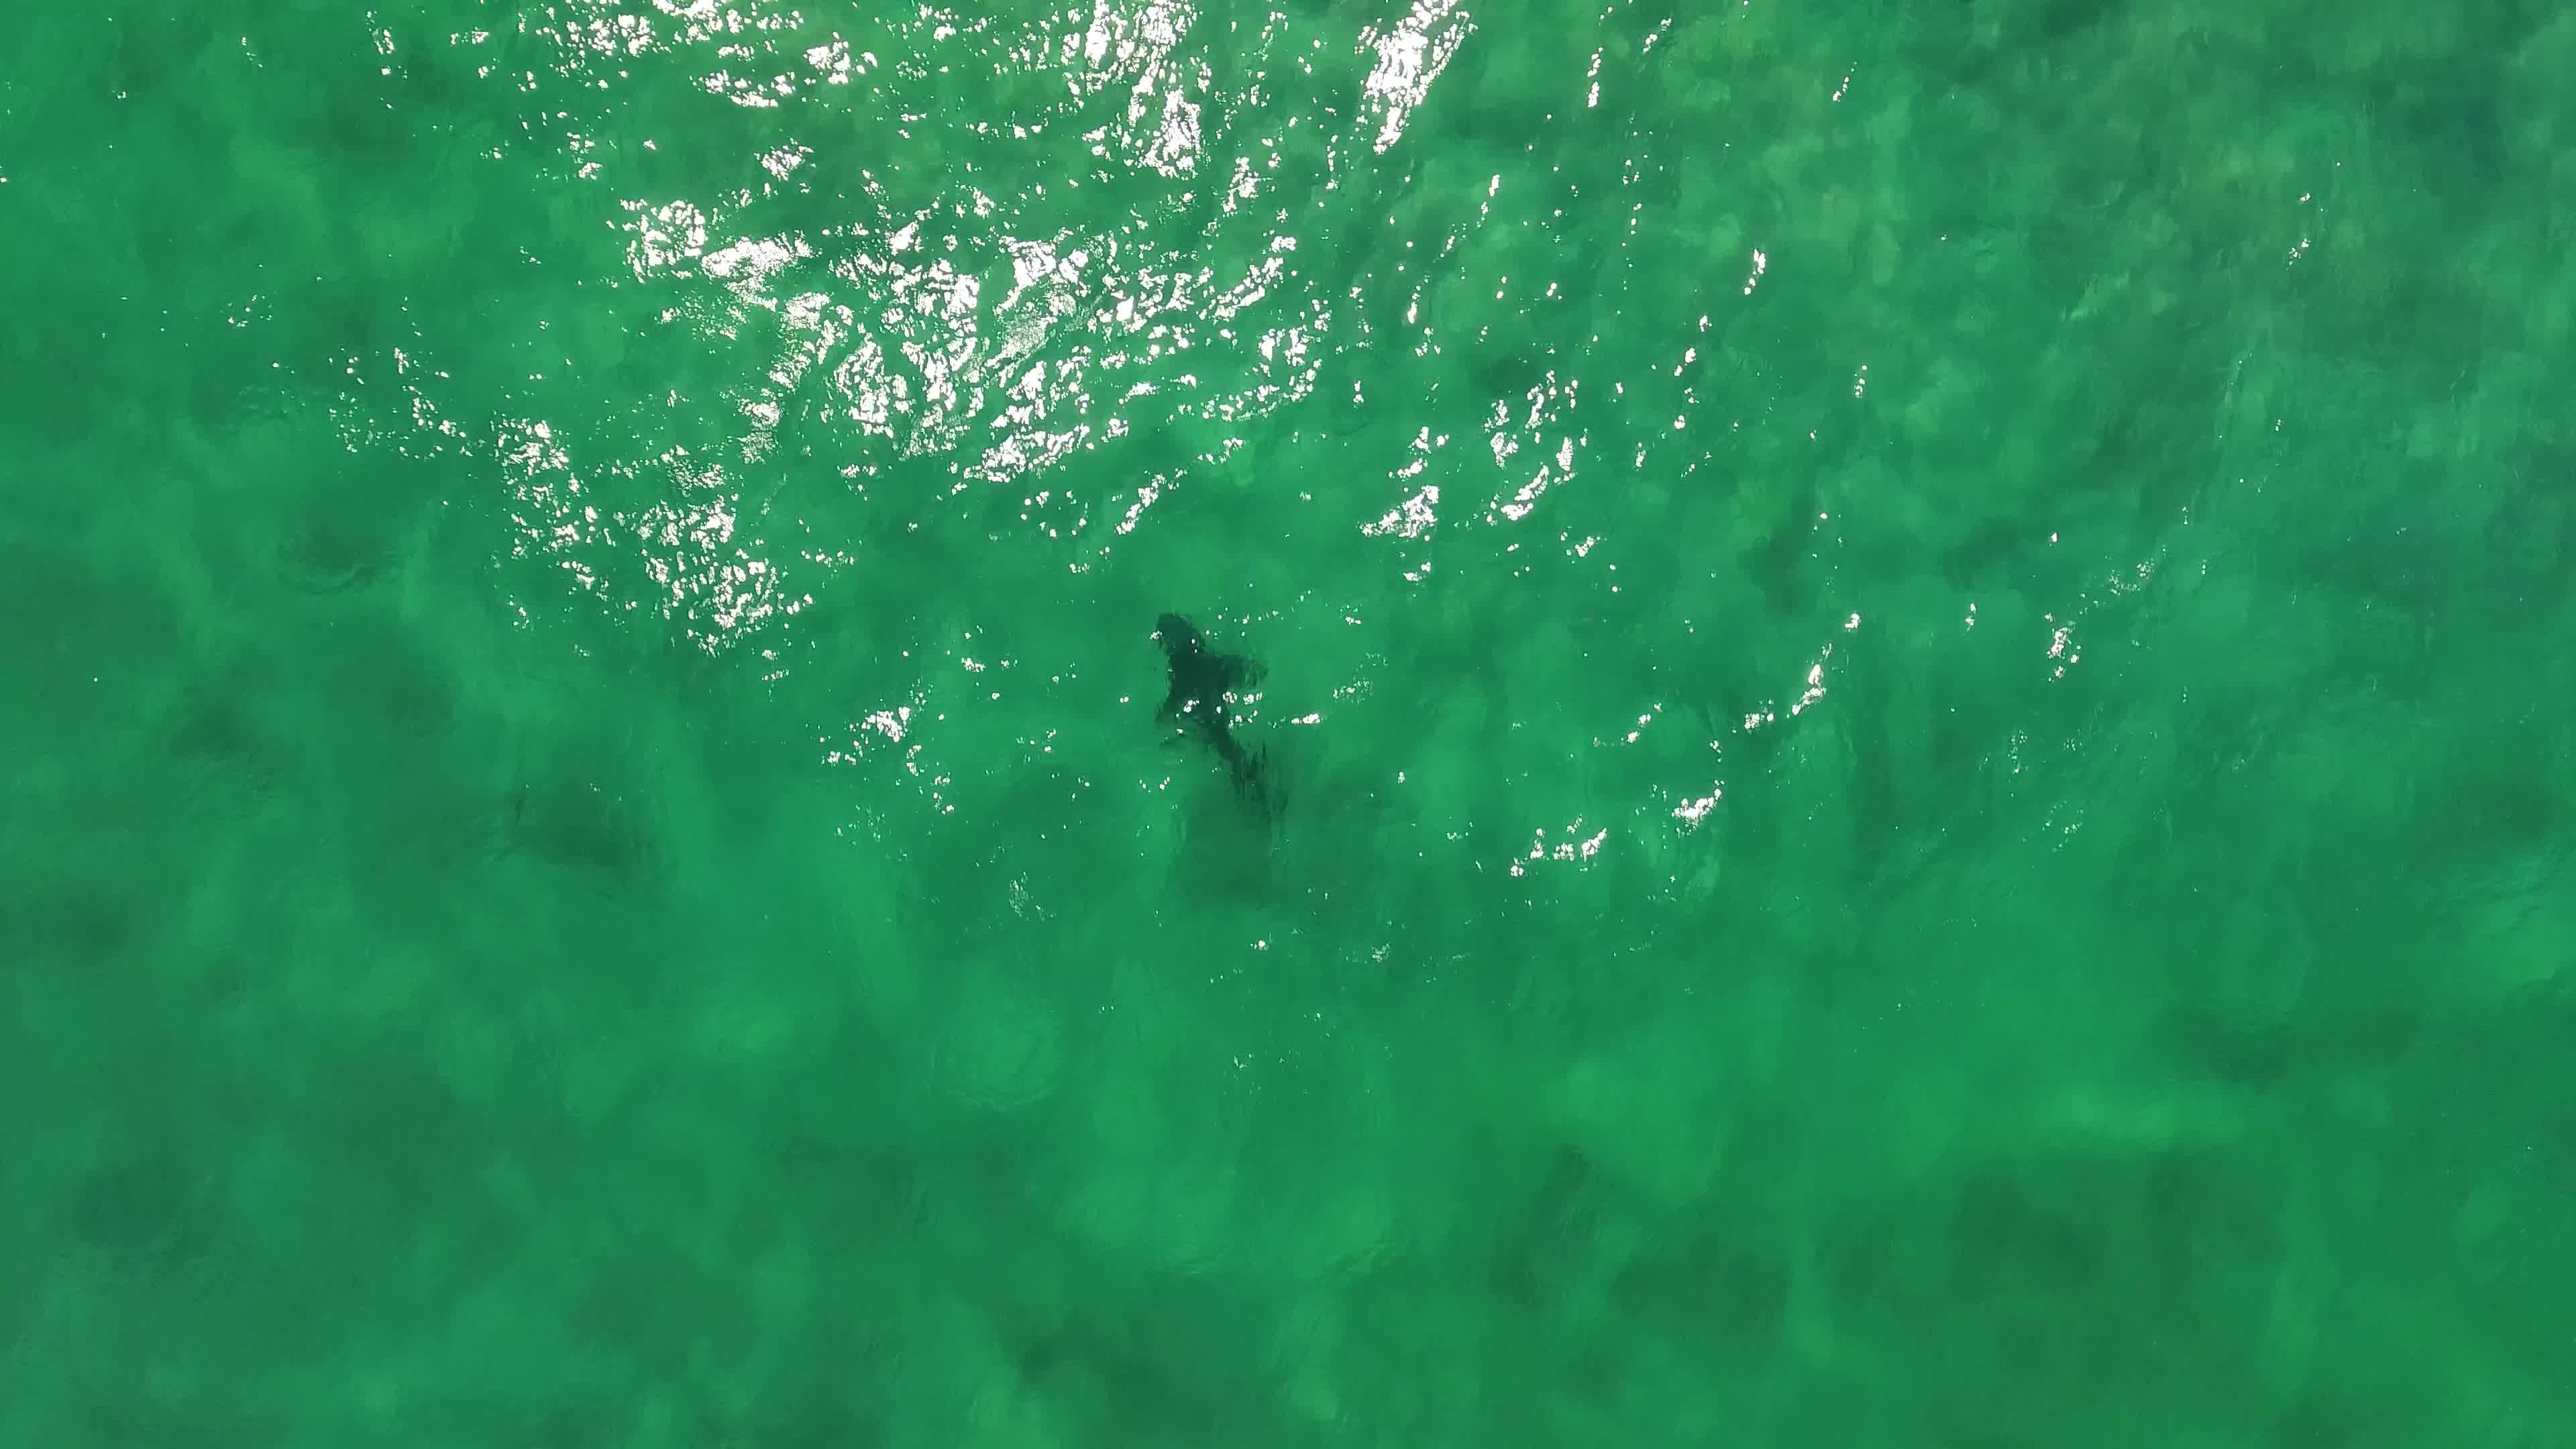shark: (1143, 605, 1279, 810)
